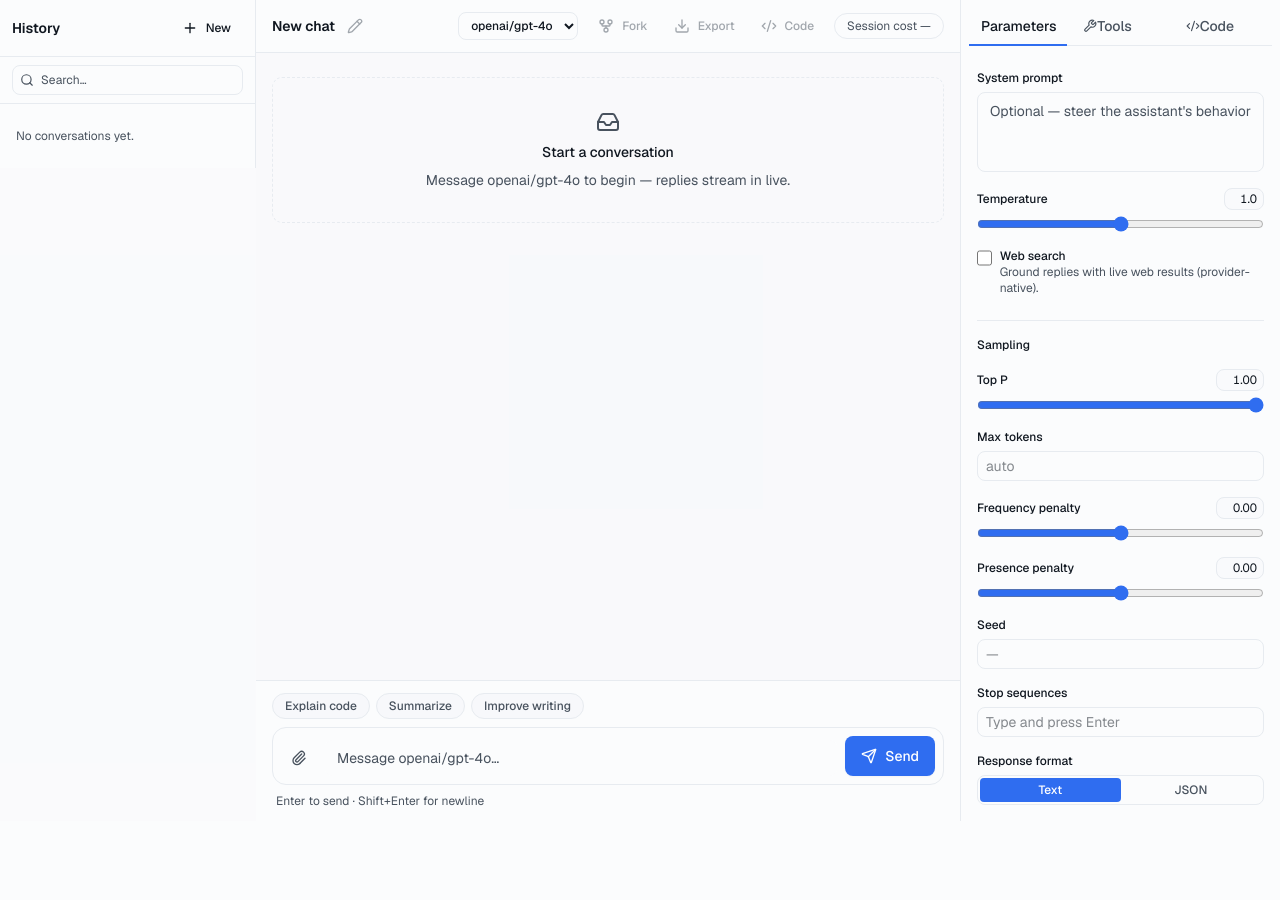
it: ChatWorkspace — conversation persistence › persist_failure_is_nonblocking_turn_visible_and_sidebar_error_set
Type "test persist failure" into the text box labelled "Message openai/gpt-4o…".
click(581, 758); type("test persist failure")  # box [325,740,837,776]
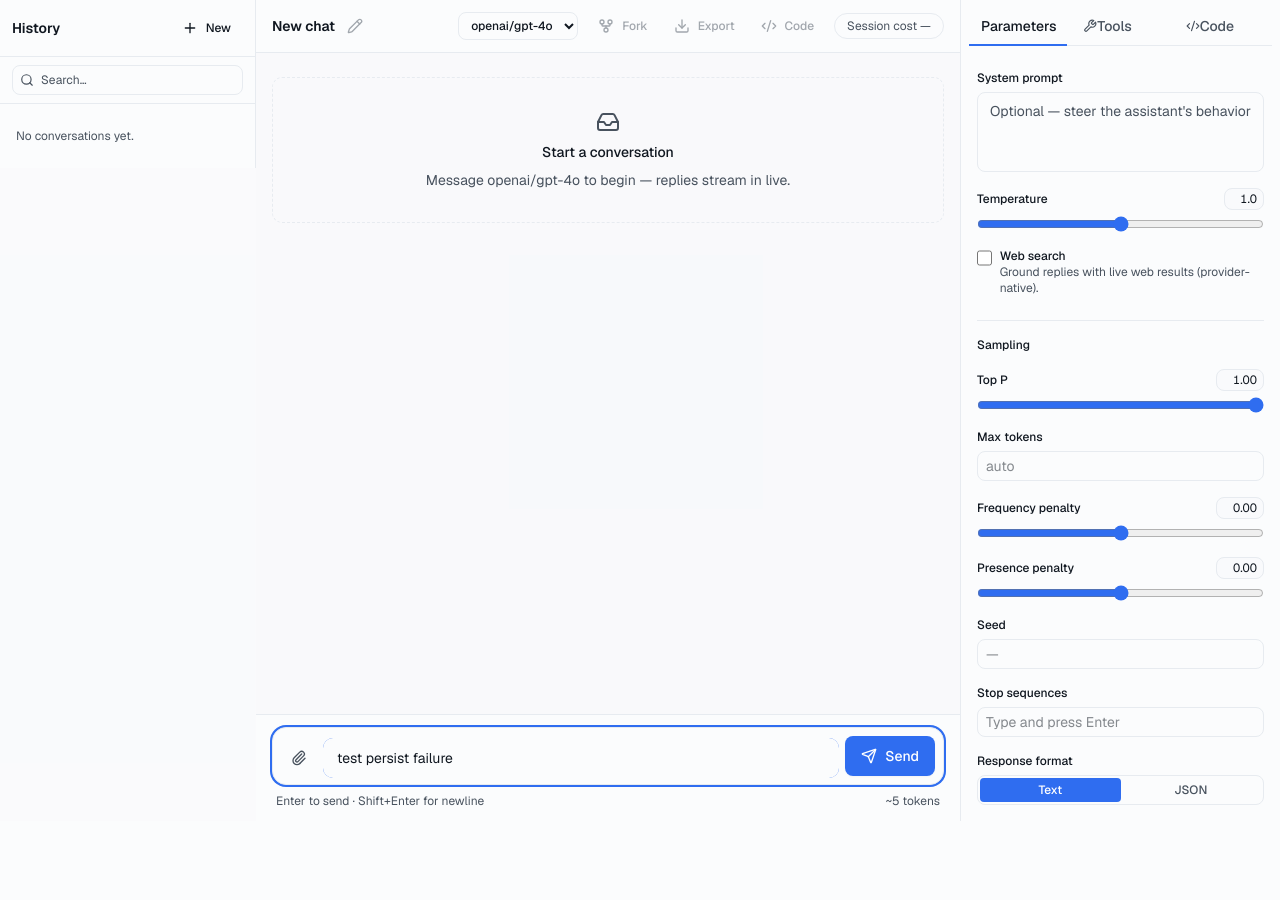
Click the button "Send".
click(890, 756)  # box [845,736,935,776]
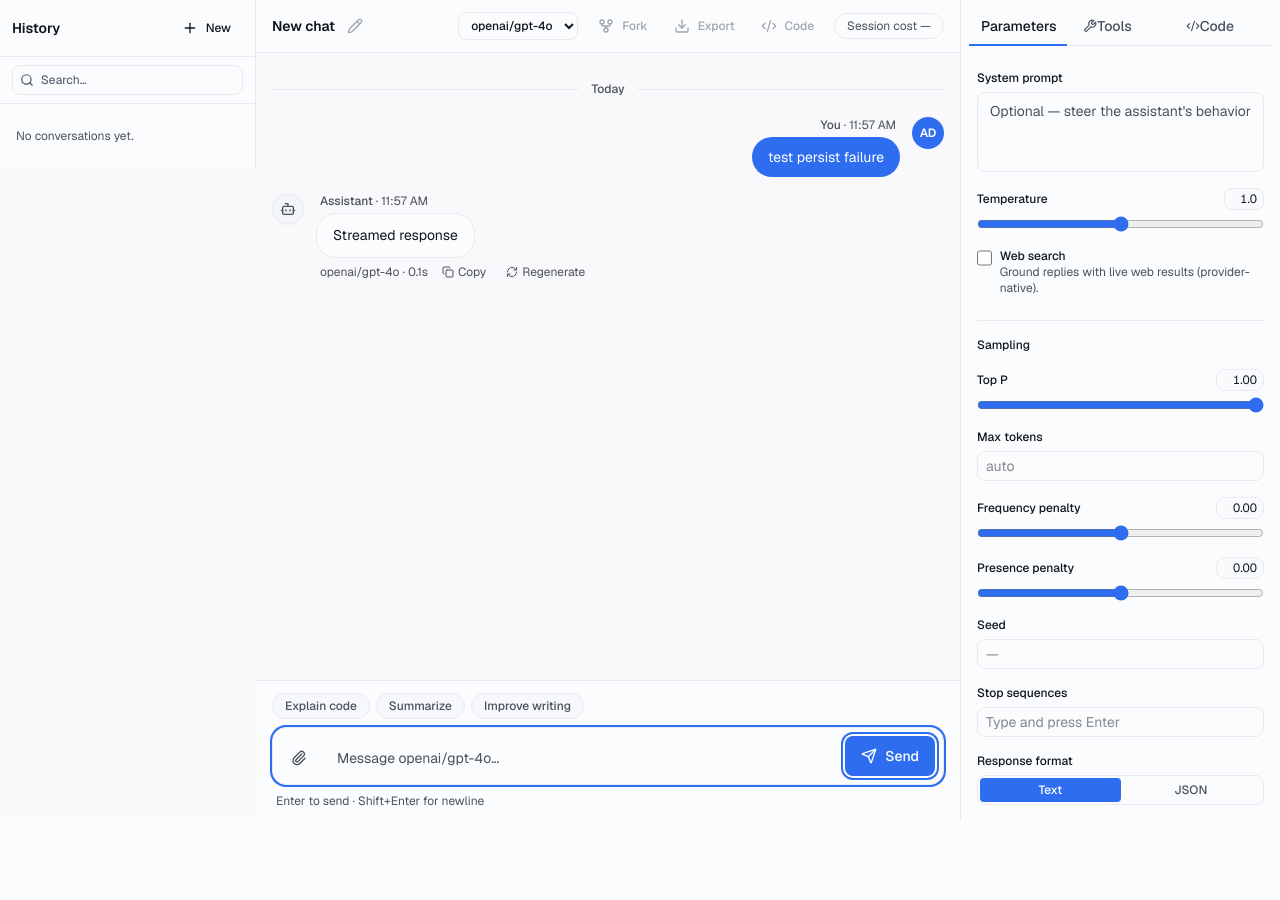
Expected: the text "Streamed response" is shown, [333,224,458,247]
Expected: the text "Start a conversation" is gone
